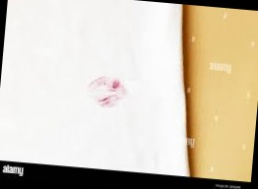lipstick: (86, 75, 125, 109)
